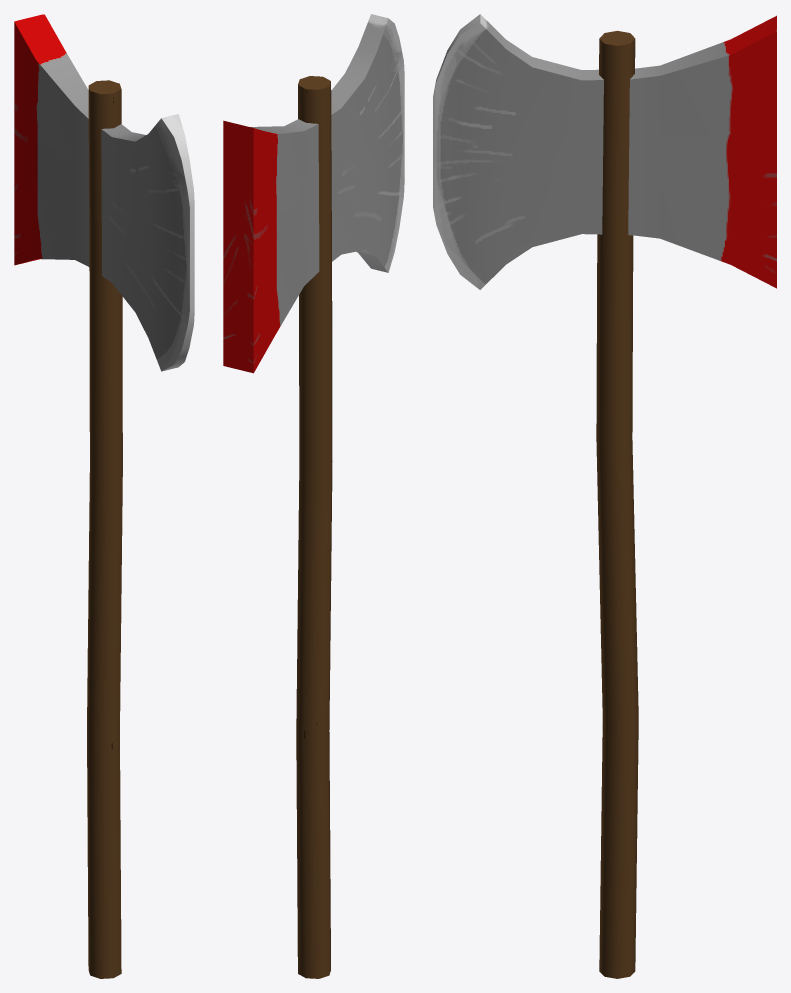
Rendered from Axe.fbx.
The picture shows the model from 3 angles, left to right: view 1: azimuth 30°, elevation 25°; view 2: azimuth 150°, elevation 25°; view 3: azimuth 270°, elevation 25°; orthographic projection. The views are drawn at different scales.
Visible parts, largest first — view 1: Axe; view 2: Axe; view 3: Axe.
Part boxes in pixels (x1,y1,x2,y2): Axe: (14,14,194,978); Axe: (223,14,404,978); Axe: (433,14,776,978).
Size of the model in its own units: 4.83 by 137 by 44.89.
